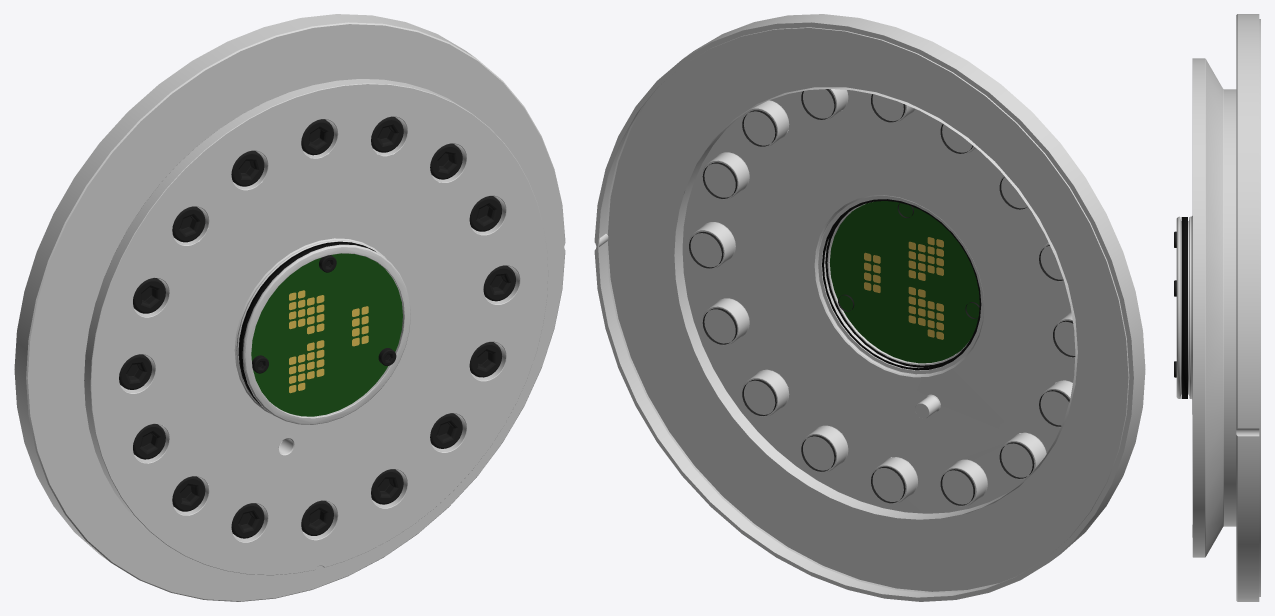
File: D148-KM-distal.glb
The picture shows the model from 3 angles, left to right: view 1: azimuth 30°, elevation 25°; view 2: azimuth 150°, elevation 25°; view 3: azimuth 270°, elevation 25°; orthographic projection. The views are drawn at different scales.
Parts seen in each view (by area): view 1: D148-KM-distal.001; view 2: D148-KM-distal.001; view 3: D148-KM-distal.001.
Part boxes in pixels (x1,y1,x2,y2): D148-KM-distal.001: (14,14,565,601); D148-KM-distal.001: (594,14,1145,601); D148-KM-distal.001: (1174,14,1260,601).
Bounding box in the file's own units: 0.148 × 0.1477 × 0.0219.
